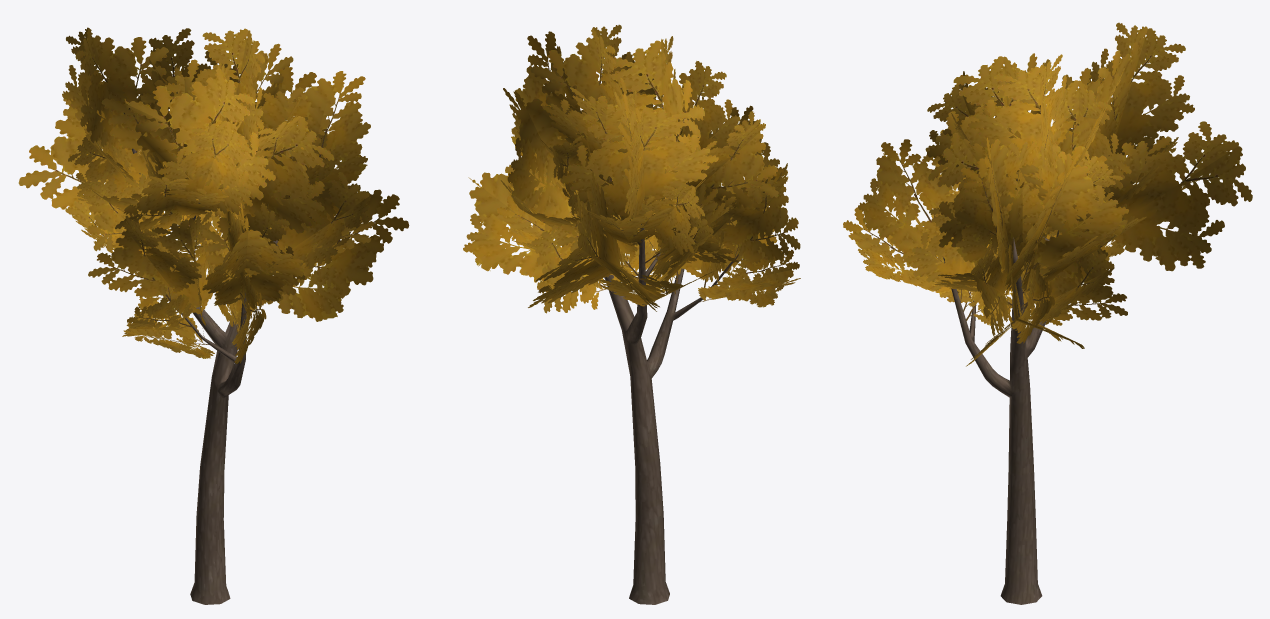
3 renders of one model, left to right at view 1: azimuth 30°, elevation 25°; view 2: azimuth 150°, elevation 25°; view 3: azimuth 270°, elevation 25°, orthographic. The views are drawn at different scales.
Visible parts, largest first — view 1: body0_model0_lod0_mesh0; view 2: body0_model0_lod0_mesh0; view 3: body0_model0_lod0_mesh0.
Part boxes in pixels (x1,y1,x2,y2): body0_model0_lod0_mesh0: [18, 27, 409, 604]; body0_model0_lod0_mesh0: [463, 24, 800, 604]; body0_model0_lod0_mesh0: [843, 22, 1252, 604].
Bounding box in the file's own units: 241 × 404 × 268.
1 material, 1 textured.
